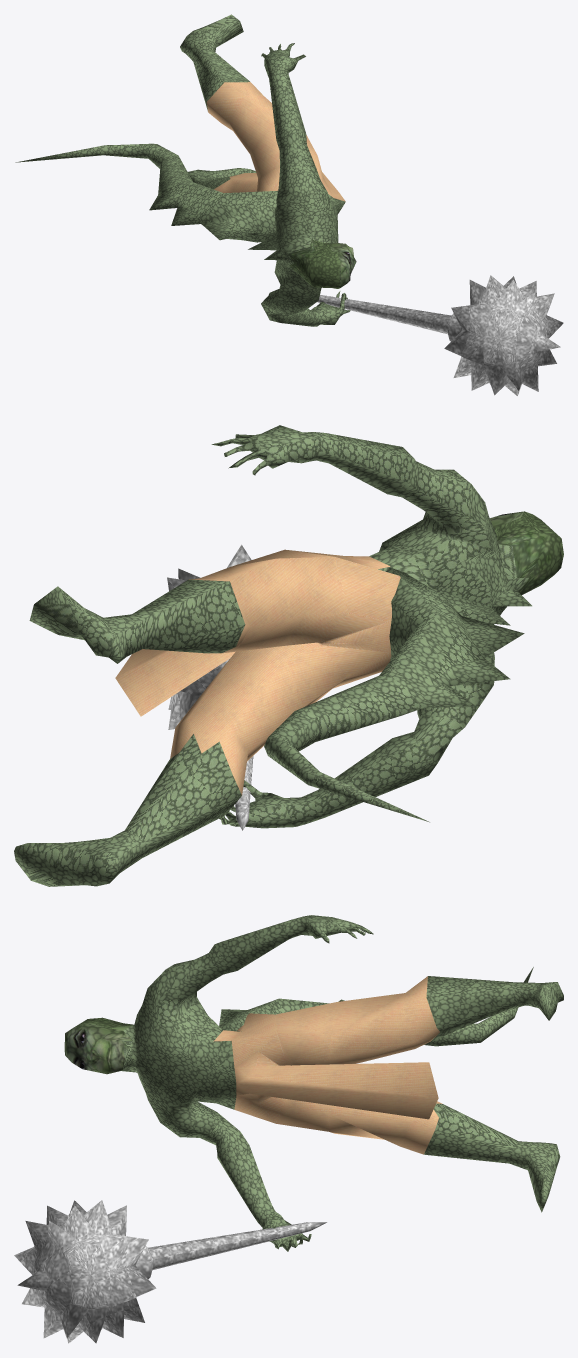
The model's file is makardhwaja_000301.obj.
The picture shows the model from 3 angles, top to bottom: view 1: azimuth 30°, elevation 25°; view 2: azimuth 150°, elevation 25°; view 3: azimuth 270°, elevation 25°; orthographic projection. The views are drawn at different scales.
Visible parts, largest first — view 1: hanuman_Cube.000, mace_Cube.008; view 2: hanuman_Cube.000, mace_Cube.008; view 3: hanuman_Cube.000, mace_Cube.008.
Boxes of the visible parts, x1,y1,x2,y2 form: hanuman_Cube.000: (15, 14, 356, 326); mace_Cube.008: (317, 275, 563, 395); hanuman_Cube.000: (14, 425, 563, 886); mace_Cube.008: (167, 544, 253, 830); hanuman_Cube.000: (64, 915, 563, 1251); mace_Cube.008: (14, 1200, 326, 1343).
Size of the model in its own units: 3.04 by 2.38 by 3.38.
